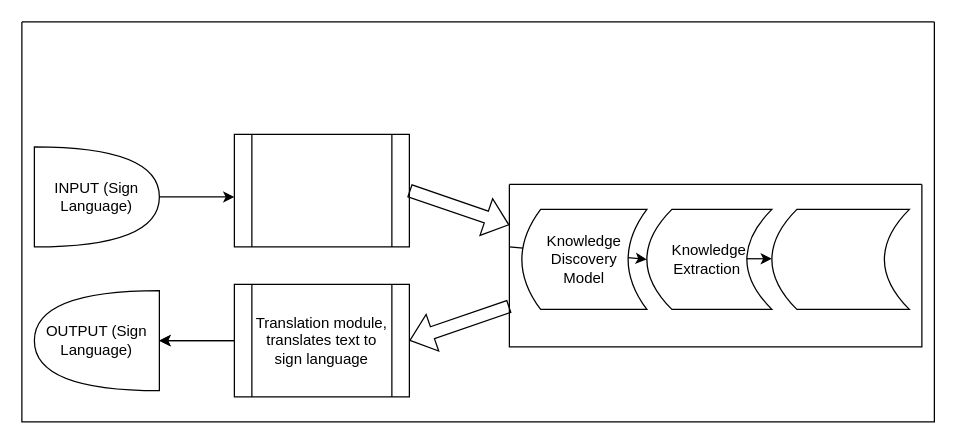
This 956x444 diagram has some shape labels left out. The centre of each missing label's shape, as x and y in pixels:
Response Generation: [840,258]
Translation module, extracts the keywords and intent only: [321,190]
